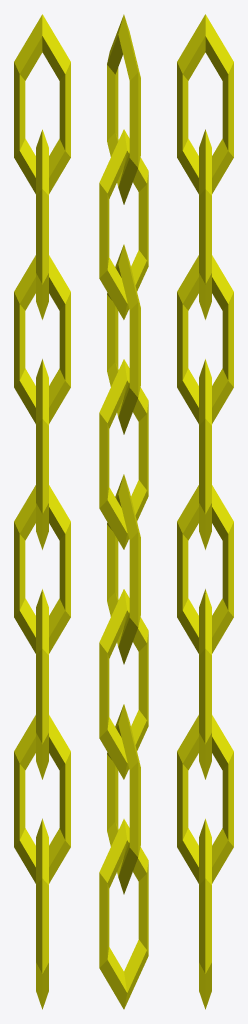
File: Chain1.glb
3 renders of one model, left to right at view 1: azimuth 90°, elevation 25°; view 2: azimuth 210°, elevation 25°; view 3: azimuth 270°, elevation 25°, orthographic.
Visible parts, largest first — view 1: Chain 1; view 2: Chain 1; view 3: Chain 1.
Part boxes in pixels (x1,y1,x2,y2): Chain 1: [14, 14, 70, 1009]; Chain 1: [99, 14, 148, 1009]; Chain 1: [177, 14, 233, 1009].
Size of the model in its own units: 0.0645 by 1.24 by 0.0645.
1 material, 1 textured.
